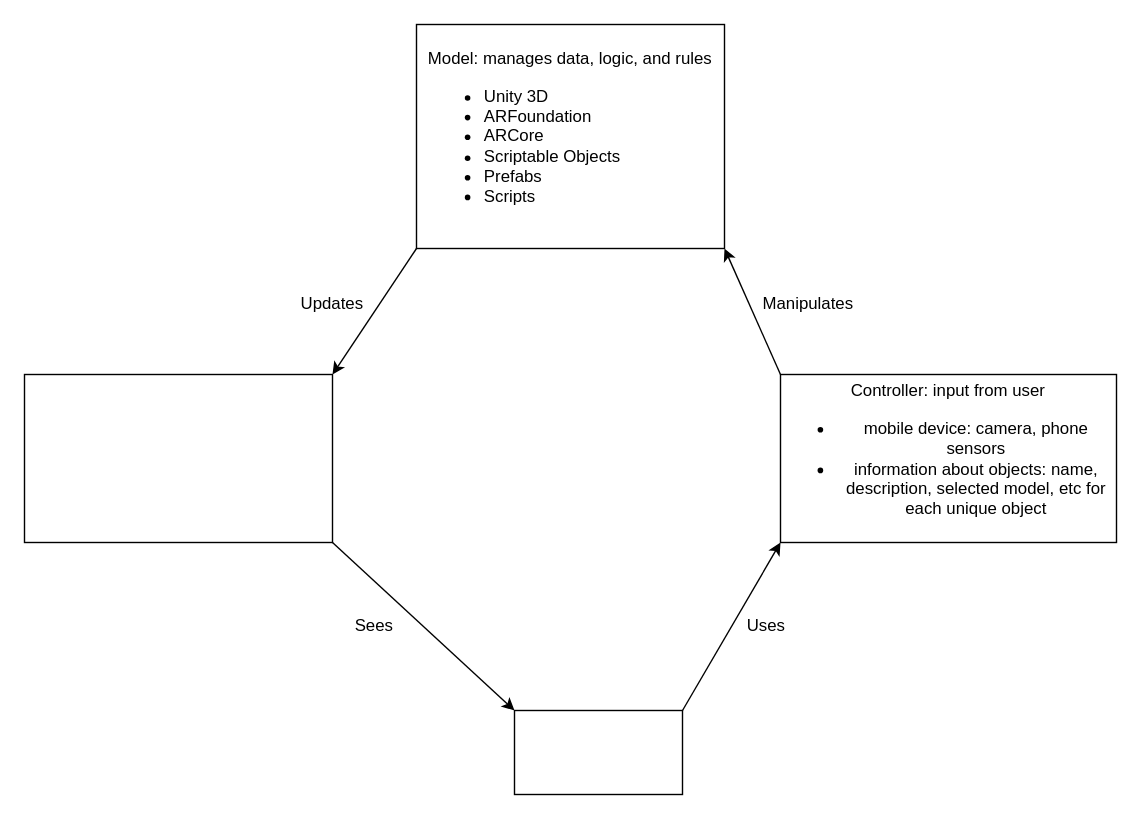
Image size: 1141x819. Some labels were removed from this diagram. The shapes that lost their labels are listed below. From the top down, each one's box as (x1, y1, x2, y2) in pixels, then its label:
(23, 373, 332, 542): View: visual representation of SolvAR AR Experience Blender models UI
(513, 709, 682, 794): User
